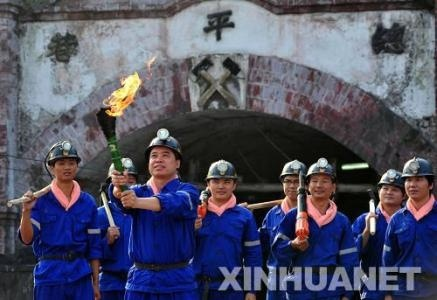fire: (103, 62, 149, 115)
